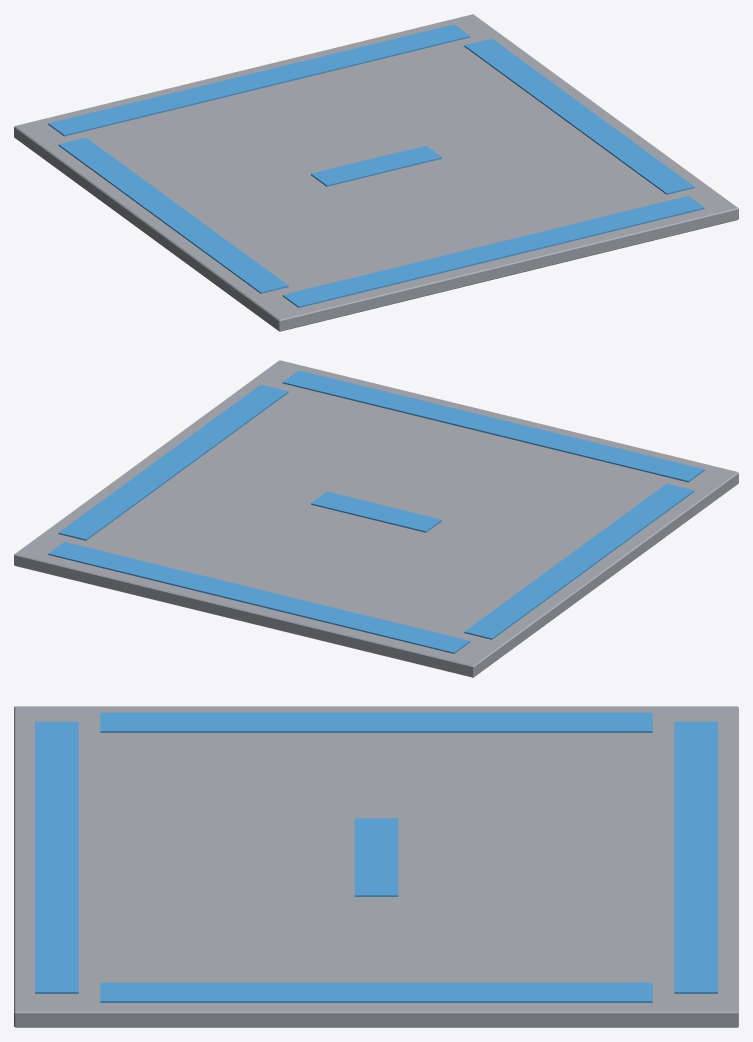
The model's file is trampoline-park-and-soft-play-park-floor-tile-blue-131ae34a__34630.glb.
3 views of the same model, one above another, from view 1: azimuth 30°, elevation 25°; view 2: azimuth 150°, elevation 25°; view 3: azimuth 270°, elevation 25° (orthographic). The views are drawn at different scales.
Visible parts, largest first — view 1: park-floor-tile-blue; view 2: park-floor-tile-blue; view 3: park-floor-tile-blue.
Boxes of the visible parts, x1=… form: park-floor-tile-blue: x1=14, y1=14, x2=738, y2=331; park-floor-tile-blue: x1=14, y1=360, x2=738, y2=677; park-floor-tile-blue: x1=14, y1=706, x2=738, y2=1027.
Size of the model in its own units: 2 by 0.056 by 2.
